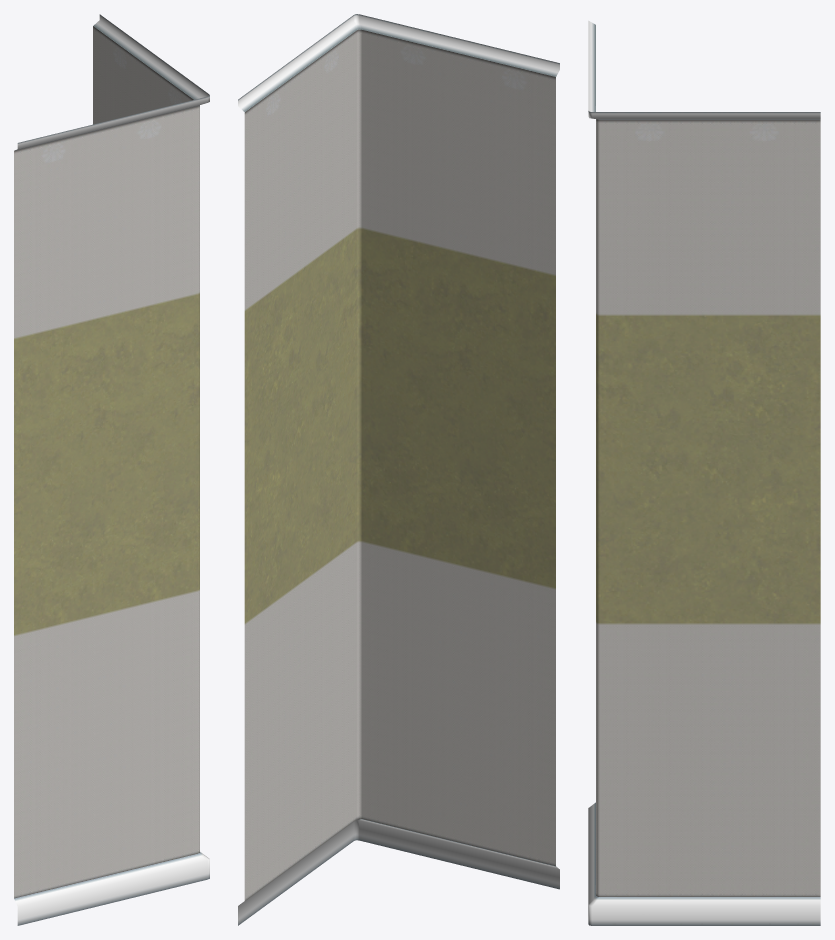
The model's file is waitingroom_convex_short.dae.
3 views of the same model, side by side, from view 1: azimuth 30°, elevation 25°; view 2: azimuth 150°, elevation 25°; view 3: azimuth 270°, elevation 25° (orthographic). The views are drawn at different scales.
Visible parts, largest first — view 1: waitingroom_convex_short; view 2: waitingroom_convex_short; view 3: waitingroom_convex_short.
Part boxes in pixels (box(x1,y1,x2,y2)): waitingroom_convex_short: box(14, 14, 209, 925); waitingroom_convex_short: box(238, 14, 559, 925); waitingroom_convex_short: box(588, 20, 820, 925).
Size of the model in its own units: 103 by 400 by 103.
